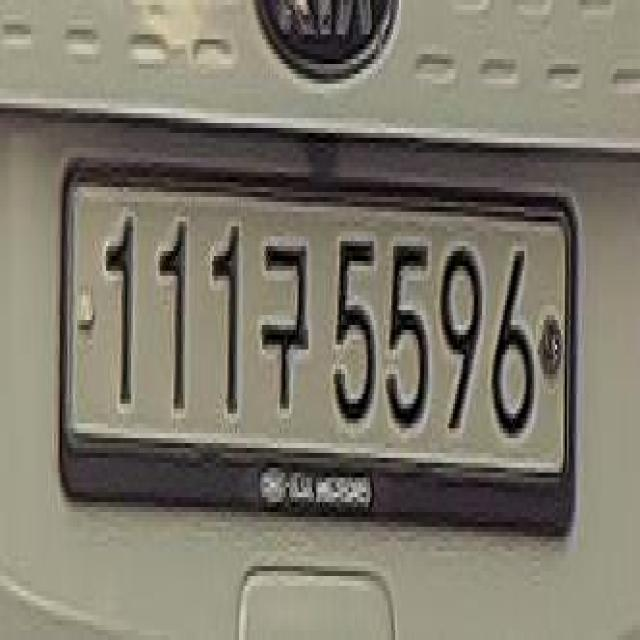illegal_plate: (52, 165, 578, 559)
